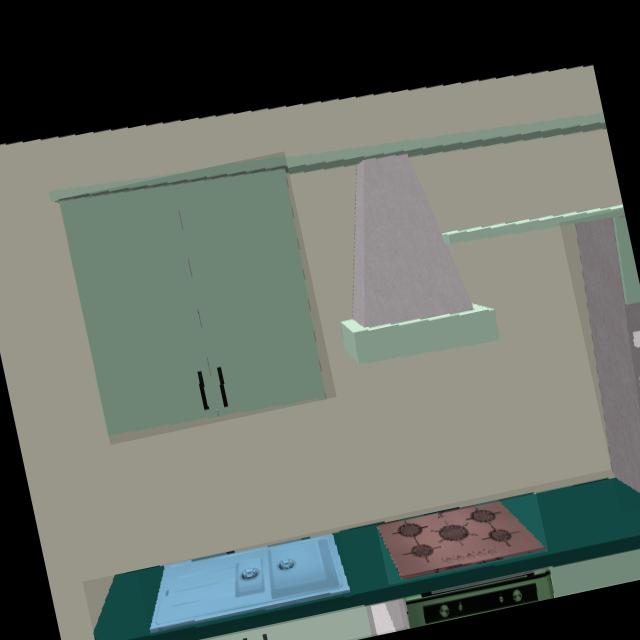cabinet: (59, 161, 326, 438), (574, 209, 640, 494), (214, 607, 408, 640), (549, 549, 640, 597)
countertop: (94, 478, 640, 640)
sink: (150, 533, 352, 636)
stove: (378, 502, 547, 581)
